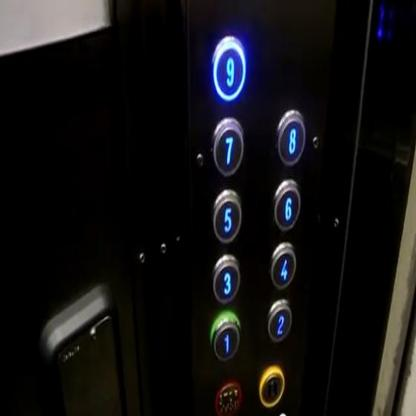1: (207, 307, 243, 363)
2: (265, 296, 294, 344)
3: (209, 252, 242, 304)
4: (267, 238, 298, 293)
5: (208, 185, 244, 245)
6: (270, 174, 302, 233)
7: (208, 112, 246, 178)
8: (274, 104, 306, 171)
9: (208, 30, 248, 106)
blur: (256, 360, 287, 411), (212, 375, 246, 415)
